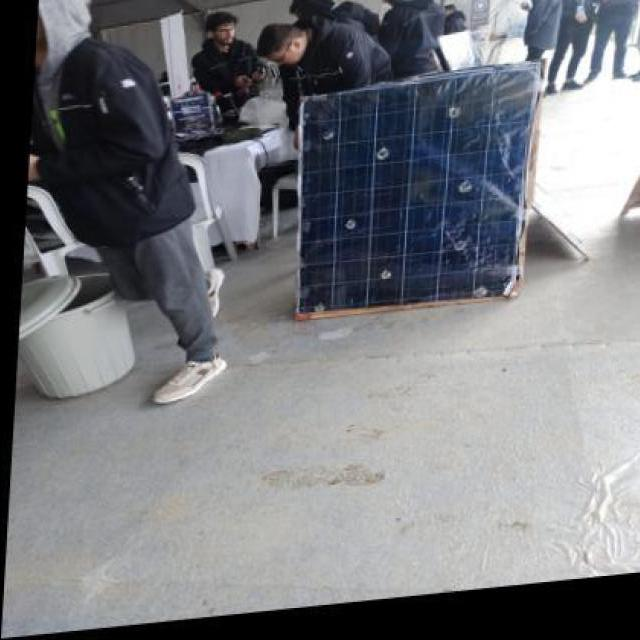soiled: (290, 61, 536, 311)
